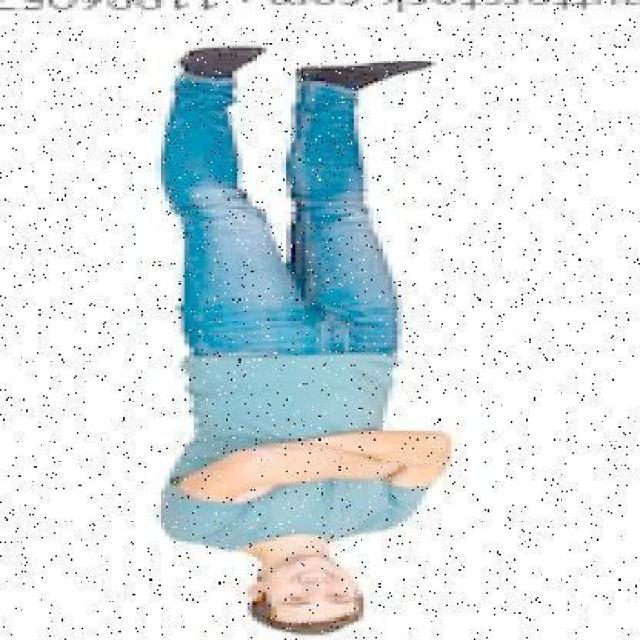person: (150, 42, 452, 636)
